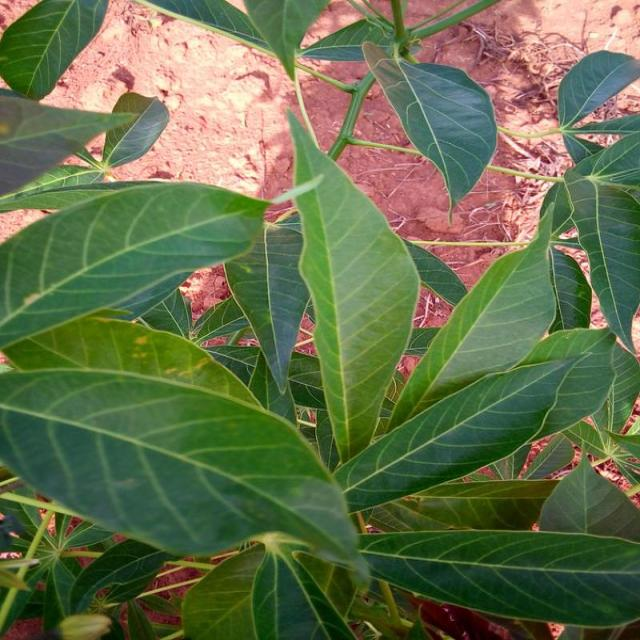cassava leaf: (2, 3, 639, 637), (286, 104, 422, 463), (0, 179, 274, 349), (362, 37, 500, 224)
